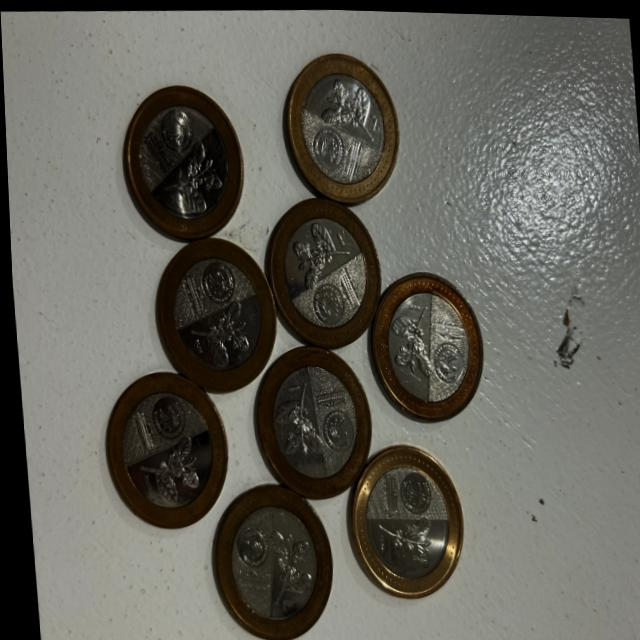20_New_Back: (311, 63, 385, 152), (180, 292, 257, 372), (282, 224, 360, 285)
